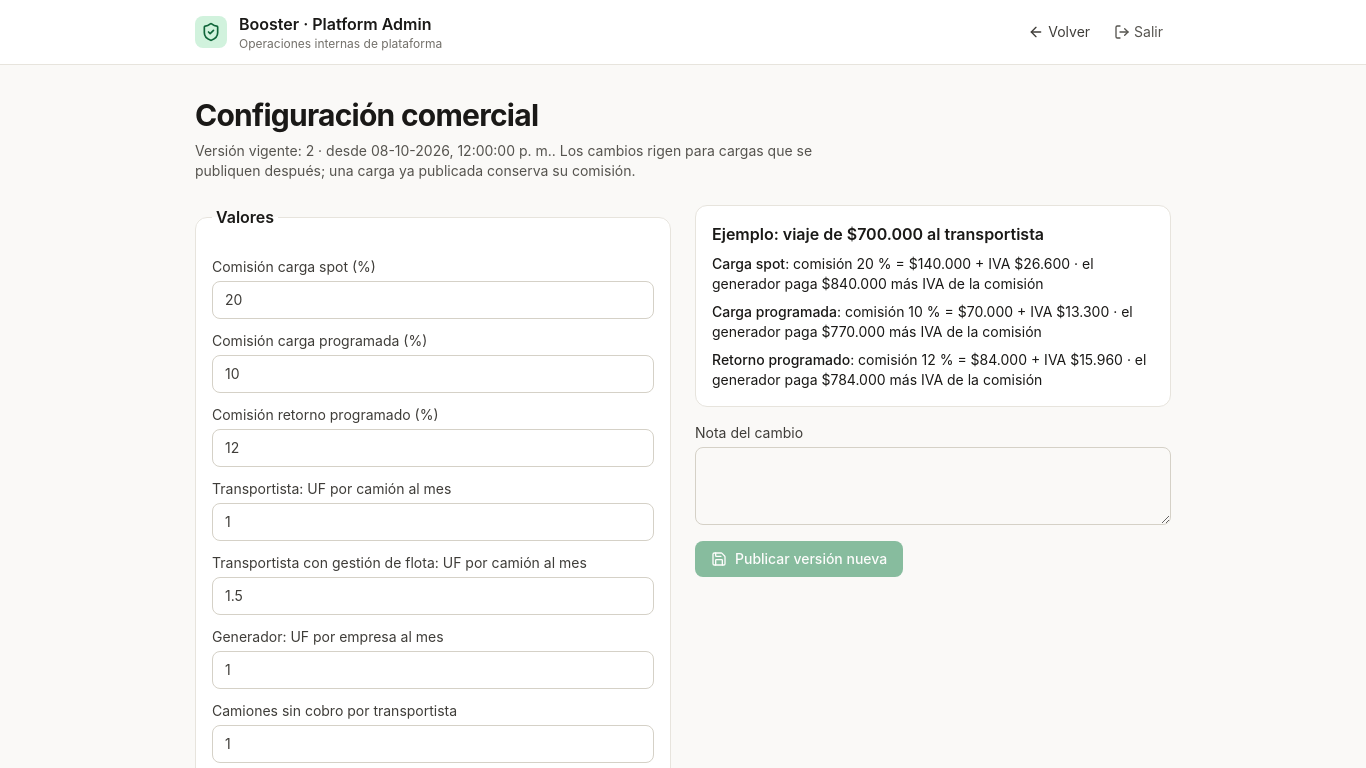
Test case: PlatformAdminConfiguracionComercialRoute (ADR-079 §3) › el ejemplo se recalcula al editar la tasa spot
Replace the text in the number field labelled "Comisión carga spot (%)" with "18" at (433, 300), box [212,281,654,319]
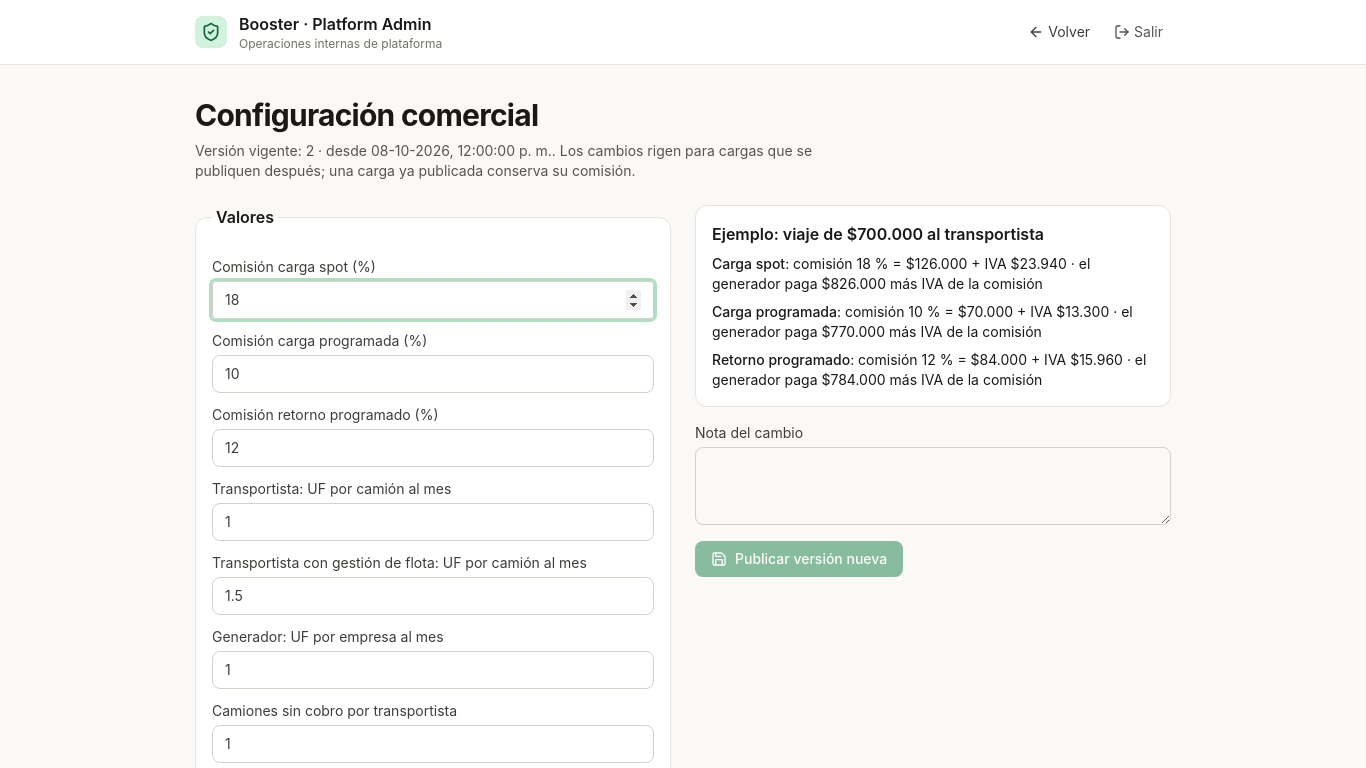
Check: the list item with test id "ejemplo-spot" shows "126.000", box [906,255,967,272]
